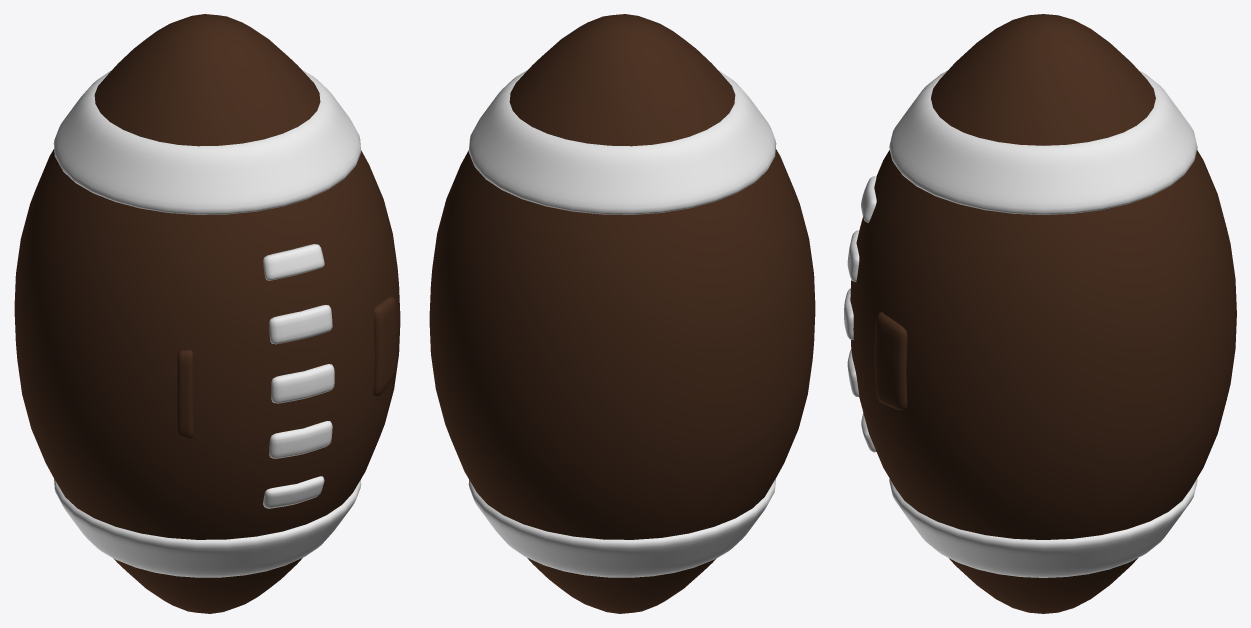
Rendered from American Football.fbx.
The picture shows the model from 3 angles, left to right: view 1: azimuth 30°, elevation 25°; view 2: azimuth 150°, elevation 25°; view 3: azimuth 270°, elevation 25°; orthographic projection.
Parts seen in each view (by area): view 1: Cylinder.143, Cylinder.142, Cube.291, Cube.292; view 2: Cylinder.143, Cylinder.142; view 3: Cylinder.143, Cylinder.142, Cube.292, Cube.291.
Boxes of the visible parts, x1,y1,x2,y2 form: Cylinder.143: [14, 14, 400, 613]; Cylinder.142: [53, 70, 361, 577]; Cube.291: [263, 244, 334, 508]; Cube.292: [177, 296, 397, 438]; Cylinder.143: [429, 14, 815, 613]; Cylinder.142: [468, 70, 776, 577]; Cylinder.143: [850, 14, 1236, 613]; Cylinder.142: [889, 70, 1197, 577]; Cube.292: [874, 312, 907, 410]; Cube.291: [844, 176, 876, 452].
Size of the model in its own units: 32.04 by 53.54 by 32.52.
